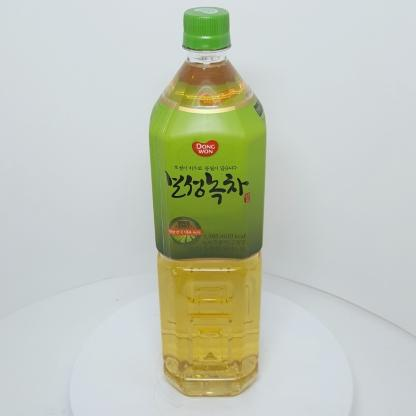------1500ML: (149, 7, 266, 396)
